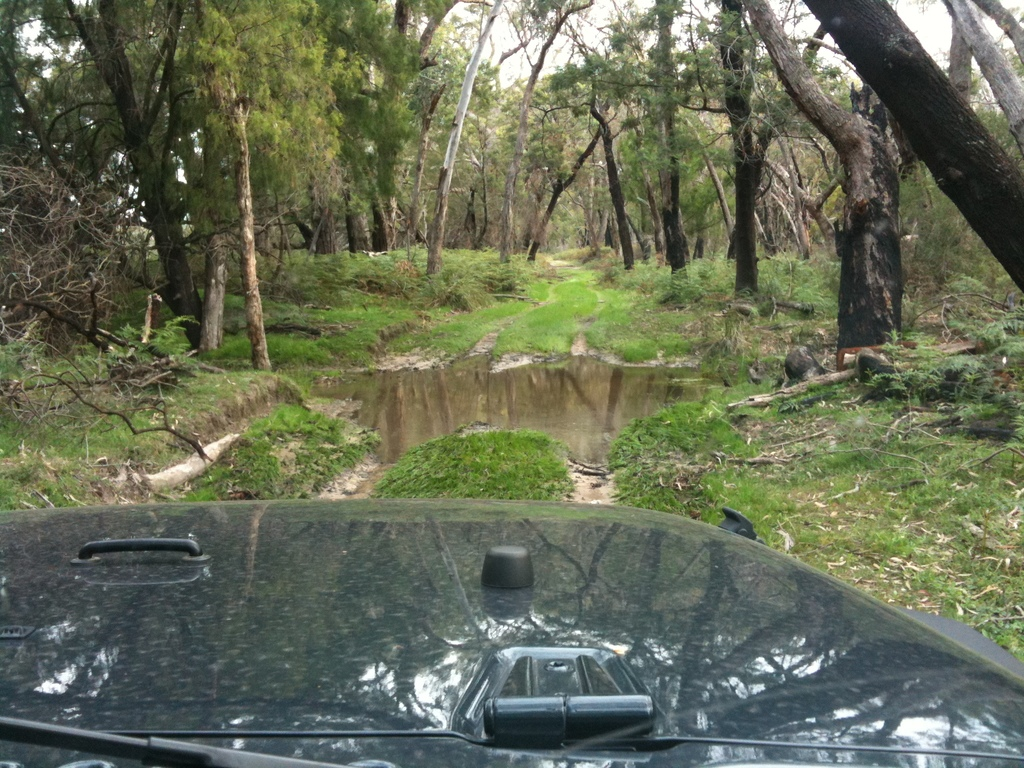Car: (0, 487, 1023, 767)
